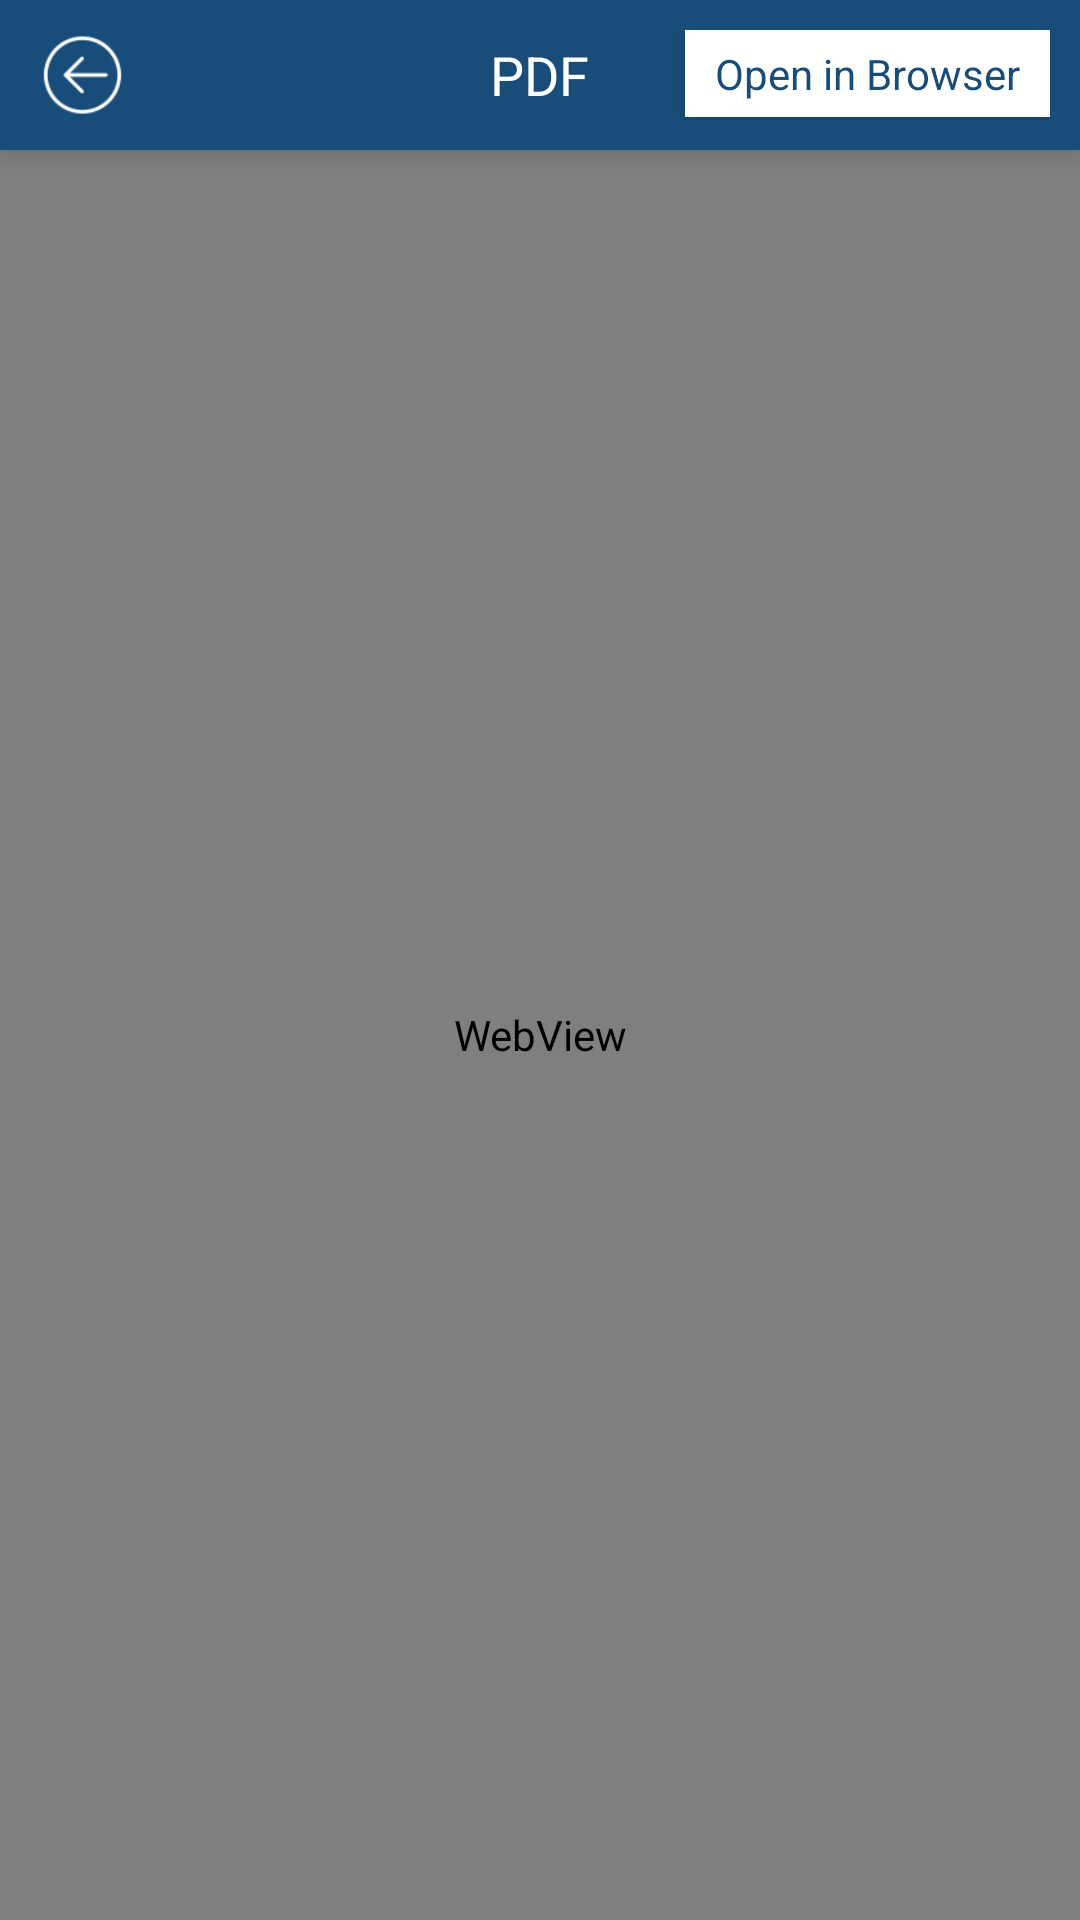

Named icons in this screenshot (1080px×1920px) and their bounding boxes, [x1, y1, x2, y2]:
leftarrow: [43, 36, 122, 114]
